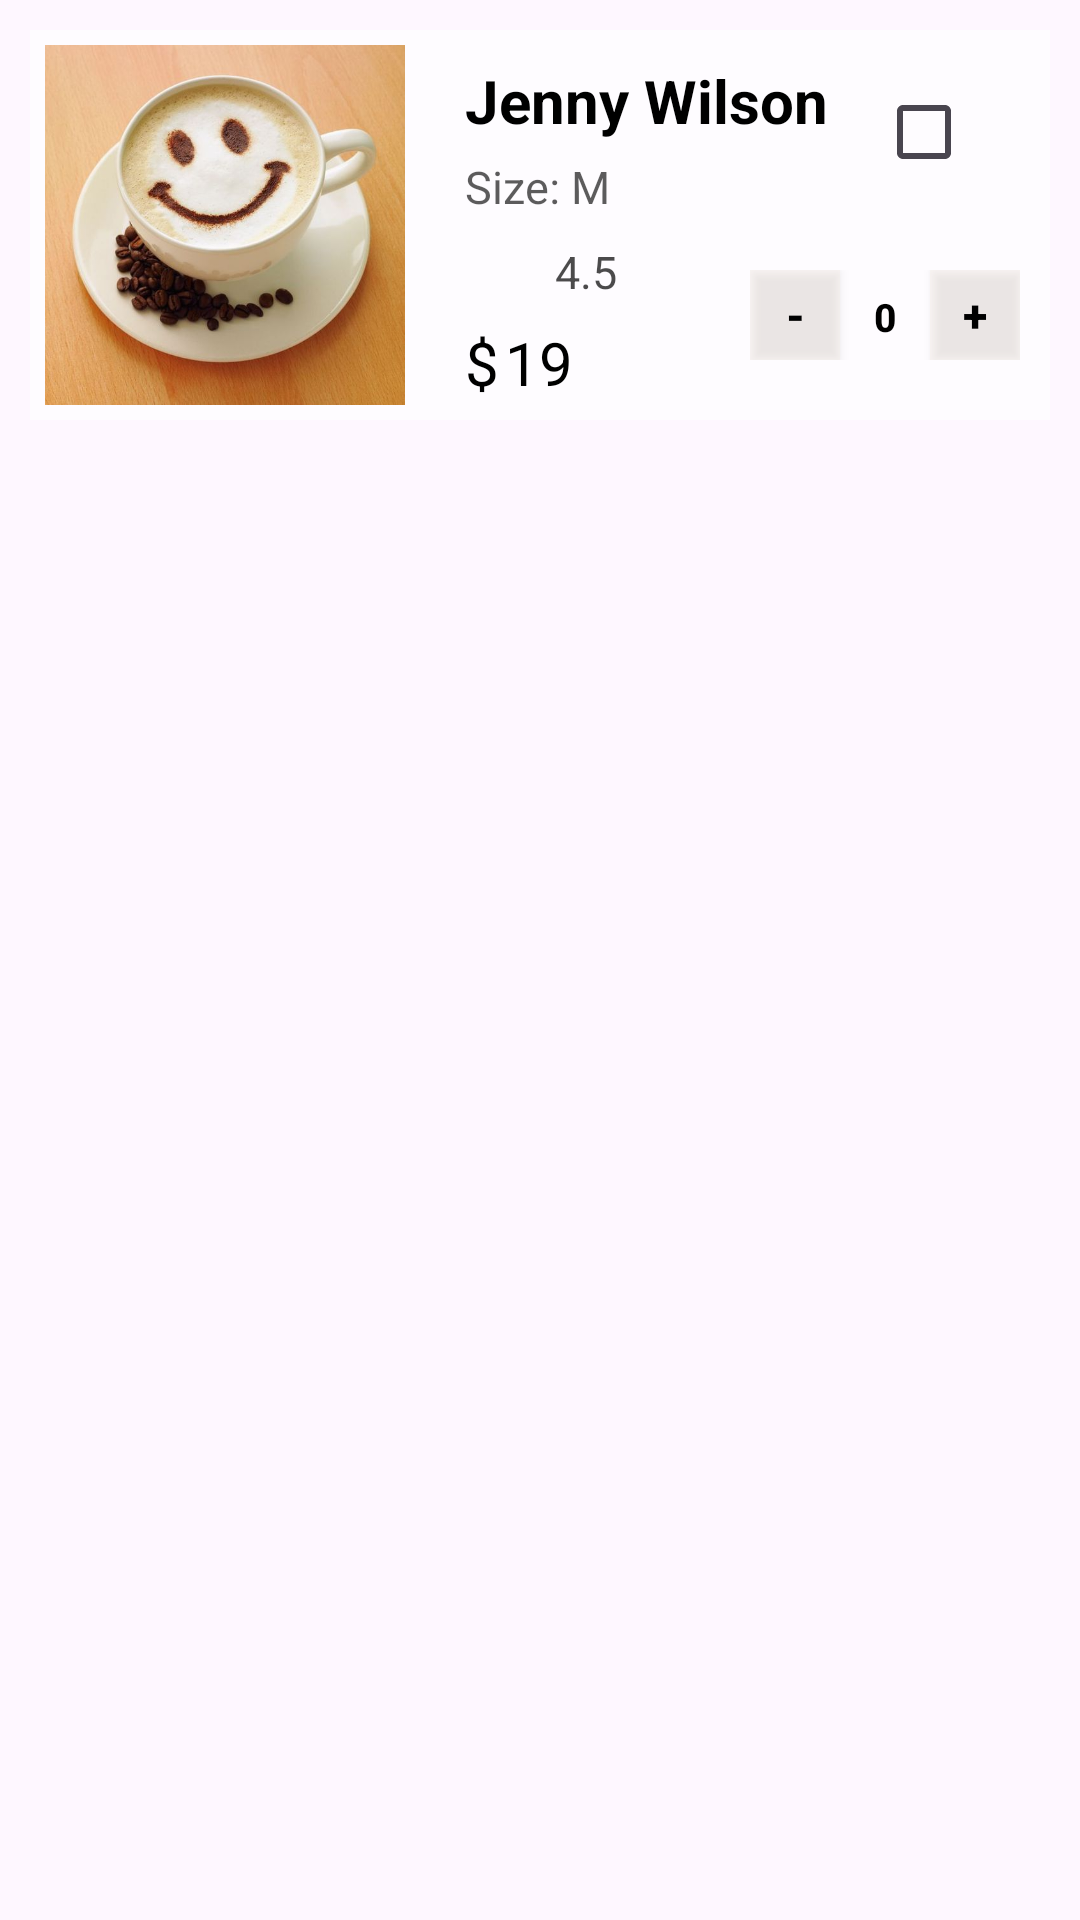

Locate icon controls on the screen. Image size 1080 × 1920, boxes as detection(x1, y1, x2, y2).
anh: detection(45, 45, 405, 405)
